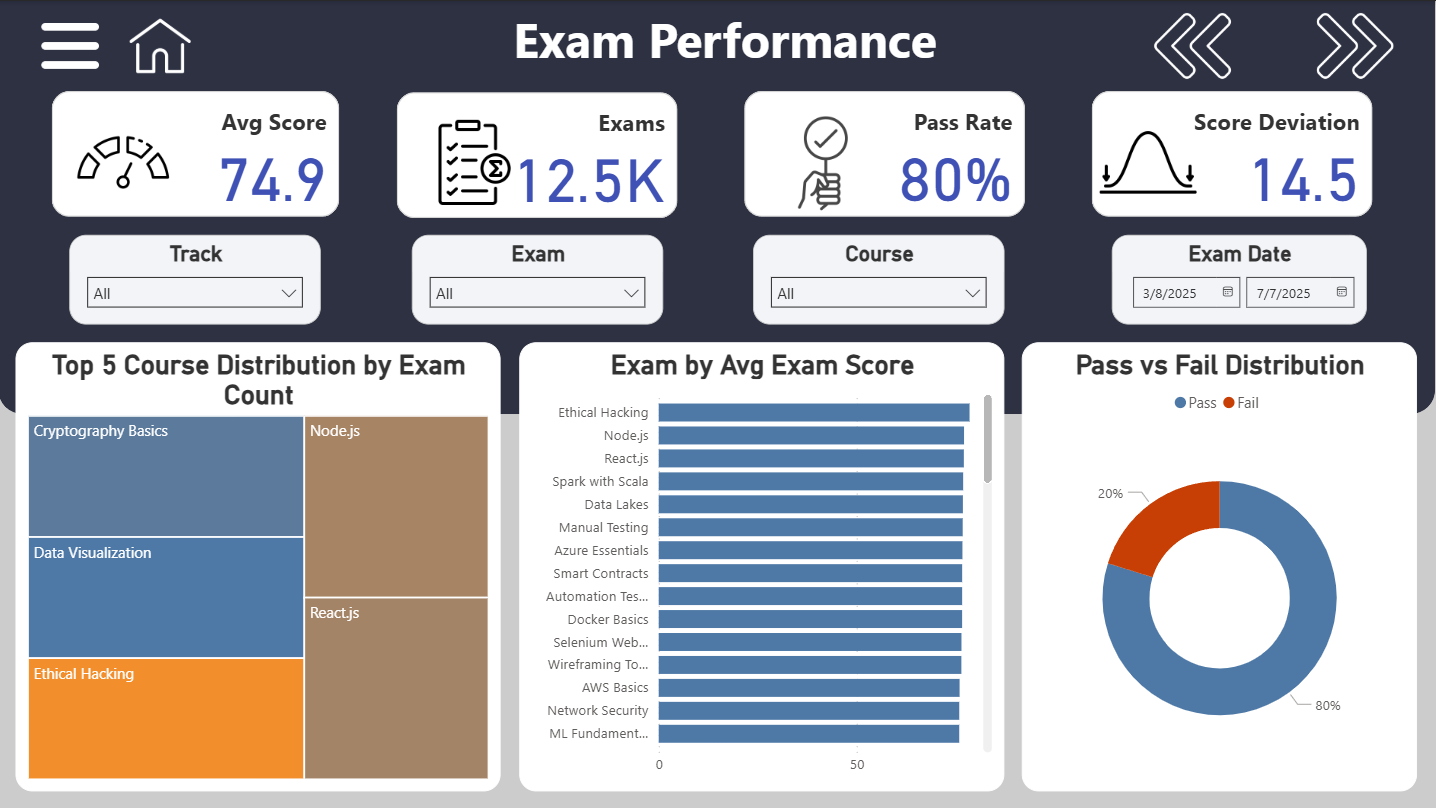

The page's visual inventory and layout, read from the dashboard file:
{"tool":"powerbi","page":{"name":"10.Exam Performance","canvas":[1280,720],"ordinal":9},"visuals":[{"type":"shape","box":[0,0,1280,368],"z":0},{"type":"cardVisual","fields":{"Data":["Dim_Exam.Avg_Exam_Score"]},"box":[48,80,256,112],"z":1000},{"type":"cardVisual","fields":{"Data":["Fact_Exam_Result.Total_Exams_Taken"]},"box":[355.5,81.8,250,112],"z":2000},{"type":"cardVisual","fields":{"Data":["Fact_Exam_Result.Pass_Rate"]},"box":[664.9,79.9,250,112],"z":3000},{"type":"cardVisual","fields":{"Data":["Fact_Exam_Result.Score_Std_Dev"]},"box":[974.2,79.9,250,112],"z":4000},{"type":"barChart","title":"Exam by Avg Exam Score ","fields":{"Category":["Dim_Courses.Course_Name"],"Y":["Dim_Exam.Avg_Exam_Score"]},"box":[464,304,432,400],"z":5000},{"type":"donutChart","title":"Pass vs Fail Distribution","fields":{"Y":["CountNonNull(Fact_Exam_Result.Exam_SK_FK)"],"Category":["Fact_Exam_Result.Result"]},"box":[912,304,352,400],"z":6000},{"type":"slicer","title":"Course","fields":{"Values":["Dim_Courses.Course_Name"]},"box":[672,208,224,80],"z":7000},{"type":"slicer","title":"Track","fields":{"Values":["Dim_Track.Track_Name"]},"box":[64,208,224,80],"z":8000},{"type":"slicer","title":"Exam","fields":{"Values":["Dim_Exam.Exam_Name"]},"box":[368,208,224,80],"z":9000},{"type":"slicer","title":"Exam Date","fields":{"Values":["Fact_Exam_Result.Exam_Date"]},"box":[992,208,227,80],"z":10000},{"type":"treemap","title":"Top 5 Course Distribution by Exam Count","fields":{"Group":["Dim_Courses.Course_Name"],"Values":["Count(Dim_Exam.Exam_Name)"]},"box":[16,304,432,400],"z":11000},{"type":"textbox","box":[448,0,400,80],"z":12000},{"type":"image","box":[368,96,112,96],"z":13000},{"type":"image","box":[64,96,96,96],"z":14000},{"type":"image","box":[688,80,96,128],"z":15000},{"type":"image","box":[976,96,96,96],"z":16000},{"type":"image","box":[1136,0,144,80],"z":17000},{"type":"image","box":[992,0,144,80],"z":18000},{"type":"image","box":[32,0,64,80],"z":19000},{"type":"image","box":[112,0,64,80],"z":20000}]}

Visuals, with their boxes in screenshot pixels (x1, y1, x2, y2), scaled from the page's 1280x720 canvas onto the 1436x808 screenshot:
shape: <box>0,0,1435,413</box>
cardVisual - Dim_Exam.Avg_Exam_Score: <box>54,90,341,215</box>
cardVisual - Fact_Exam_Result.Total_Exams_Taken: <box>399,92,679,217</box>
cardVisual - Fact_Exam_Result.Pass_Rate: <box>746,90,1026,215</box>
cardVisual - Fact_Exam_Result.Score_Std_Dev: <box>1093,90,1373,215</box>
"Exam by Avg Exam Score " barChart: <box>521,341,1005,790</box>
"Pass vs Fail Distribution" donutChart: <box>1023,341,1418,790</box>
"Course" slicer: <box>754,233,1005,323</box>
"Track" slicer: <box>72,233,323,323</box>
"Exam" slicer: <box>413,233,664,323</box>
"Exam Date" slicer: <box>1113,233,1368,323</box>
"Top 5 Course Distribution by Exam Count" treemap: <box>18,341,503,790</box>
textbox: <box>503,0,951,90</box>
image: <box>413,108,538,215</box>
image: <box>72,108,180,215</box>
image: <box>772,90,880,233</box>
image: <box>1095,108,1203,215</box>
image: <box>1274,0,1435,90</box>
image: <box>1113,0,1274,90</box>
image: <box>36,0,108,90</box>
image: <box>126,0,197,90</box>
